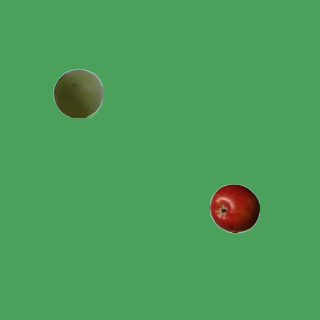Apple Braeburn: (209, 183, 259, 233)
Grape White 4: (52, 68, 102, 118)
